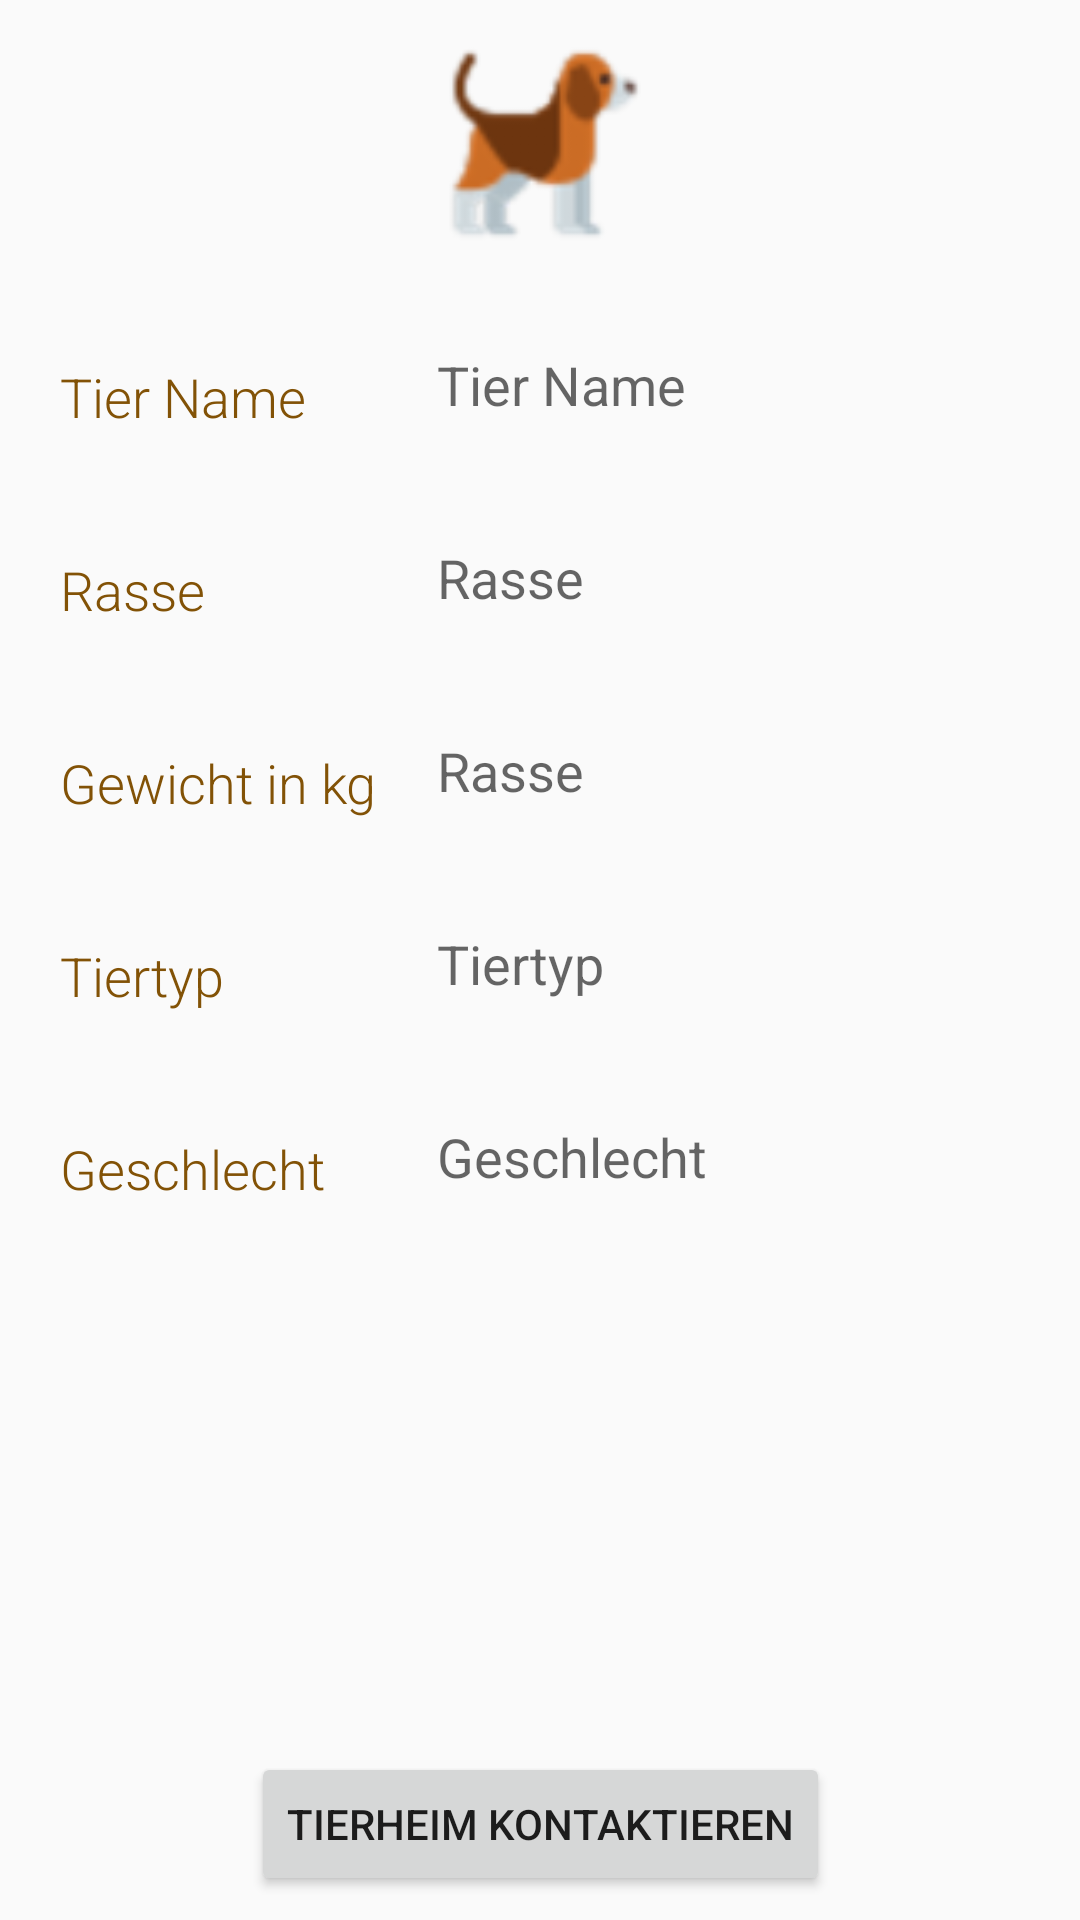

Point at icon controls on the screen. Image size 1080px x 1920px, points as point (x, y).
dog: point (545, 143)
